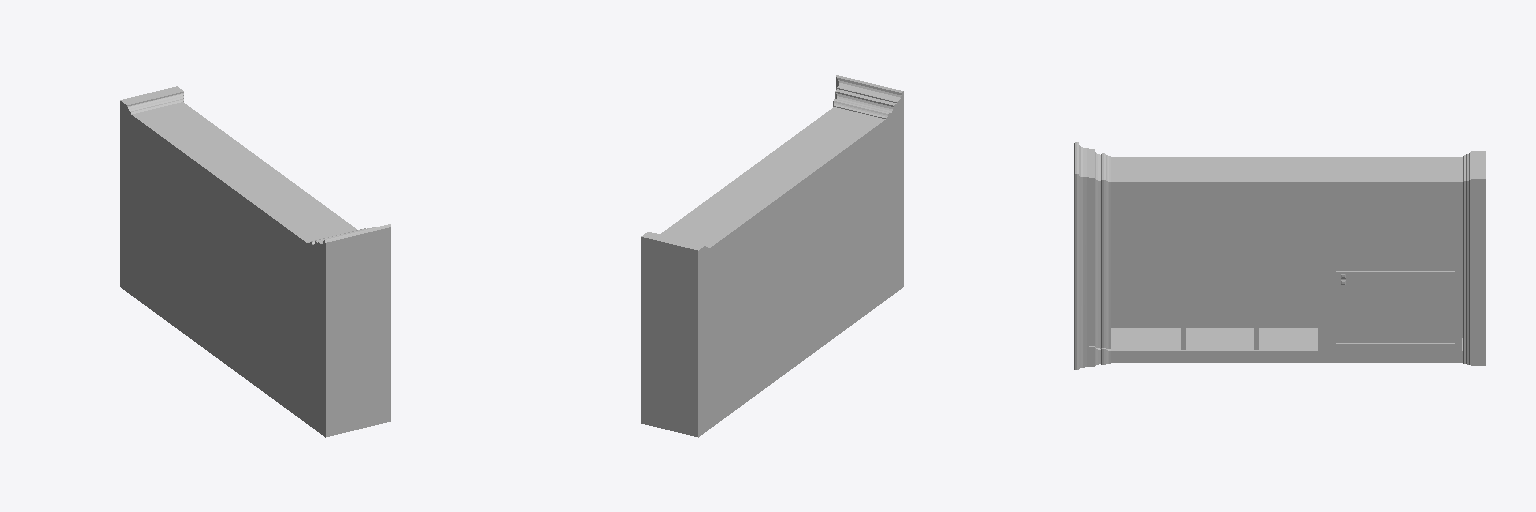
Rendered from side.obj.
3 renders of one model, left to right at view 1: azimuth 30°, elevation 25°; view 2: azimuth 150°, elevation 25°; view 3: azimuth 270°, elevation 25°, orthographic.
Visible parts, largest first — view 1: re_shelf_side_R; view 2: re_shelf_side_R; view 3: re_shelf_side_R.
Boxes of the visible parts, x1,y1,x2,y2 form: re_shelf_side_R: [120, 86, 390, 437]; re_shelf_side_R: [641, 75, 903, 437]; re_shelf_side_R: [1074, 142, 1485, 369].
Bounding box in the file's own units: 0.4108 × 1.16 × 2.2.